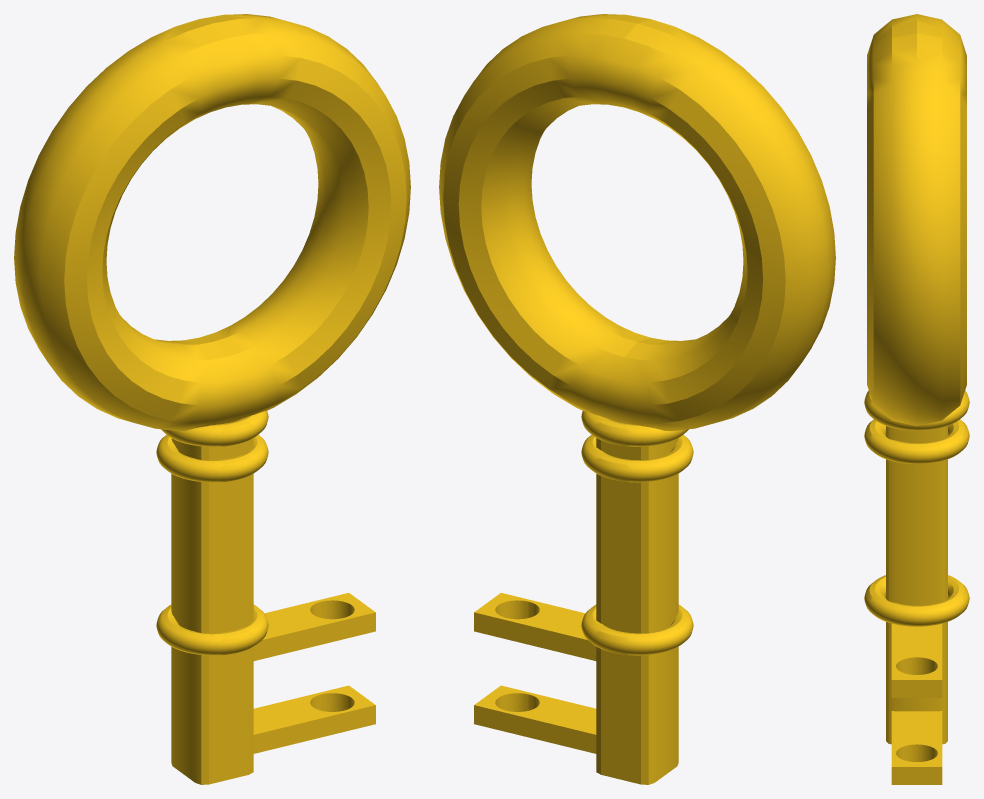
The model's file is Key.obj.
3 views of the same model, side by side, from view 1: azimuth 30°, elevation 25°; view 2: azimuth 150°, elevation 25°; view 3: azimuth 270°, elevation 25° (orthographic). The views are drawn at different scales.
Visible parts, largest first — view 1: Cube.002; view 2: Cube.002; view 3: Cube.002.
Part boxes in pixels (x1=…): Cube.002: x1=14, y1=14, x2=410, y2=784; Cube.002: x1=439, y1=14, x2=835, y2=784; Cube.002: x1=864, y1=14, x2=969, y2=784.
Bounding box in the file's own units: 1 × 1.87 × 0.2554.
3 materials, 3 textured.
